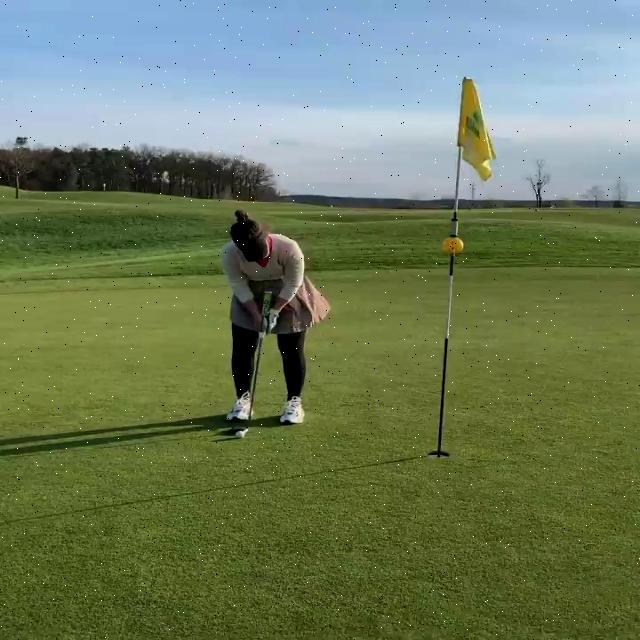ClubHandle: (222, 288, 273, 435)
ClubHead: (226, 425, 250, 433)
GolfBall: (234, 431, 245, 439)
